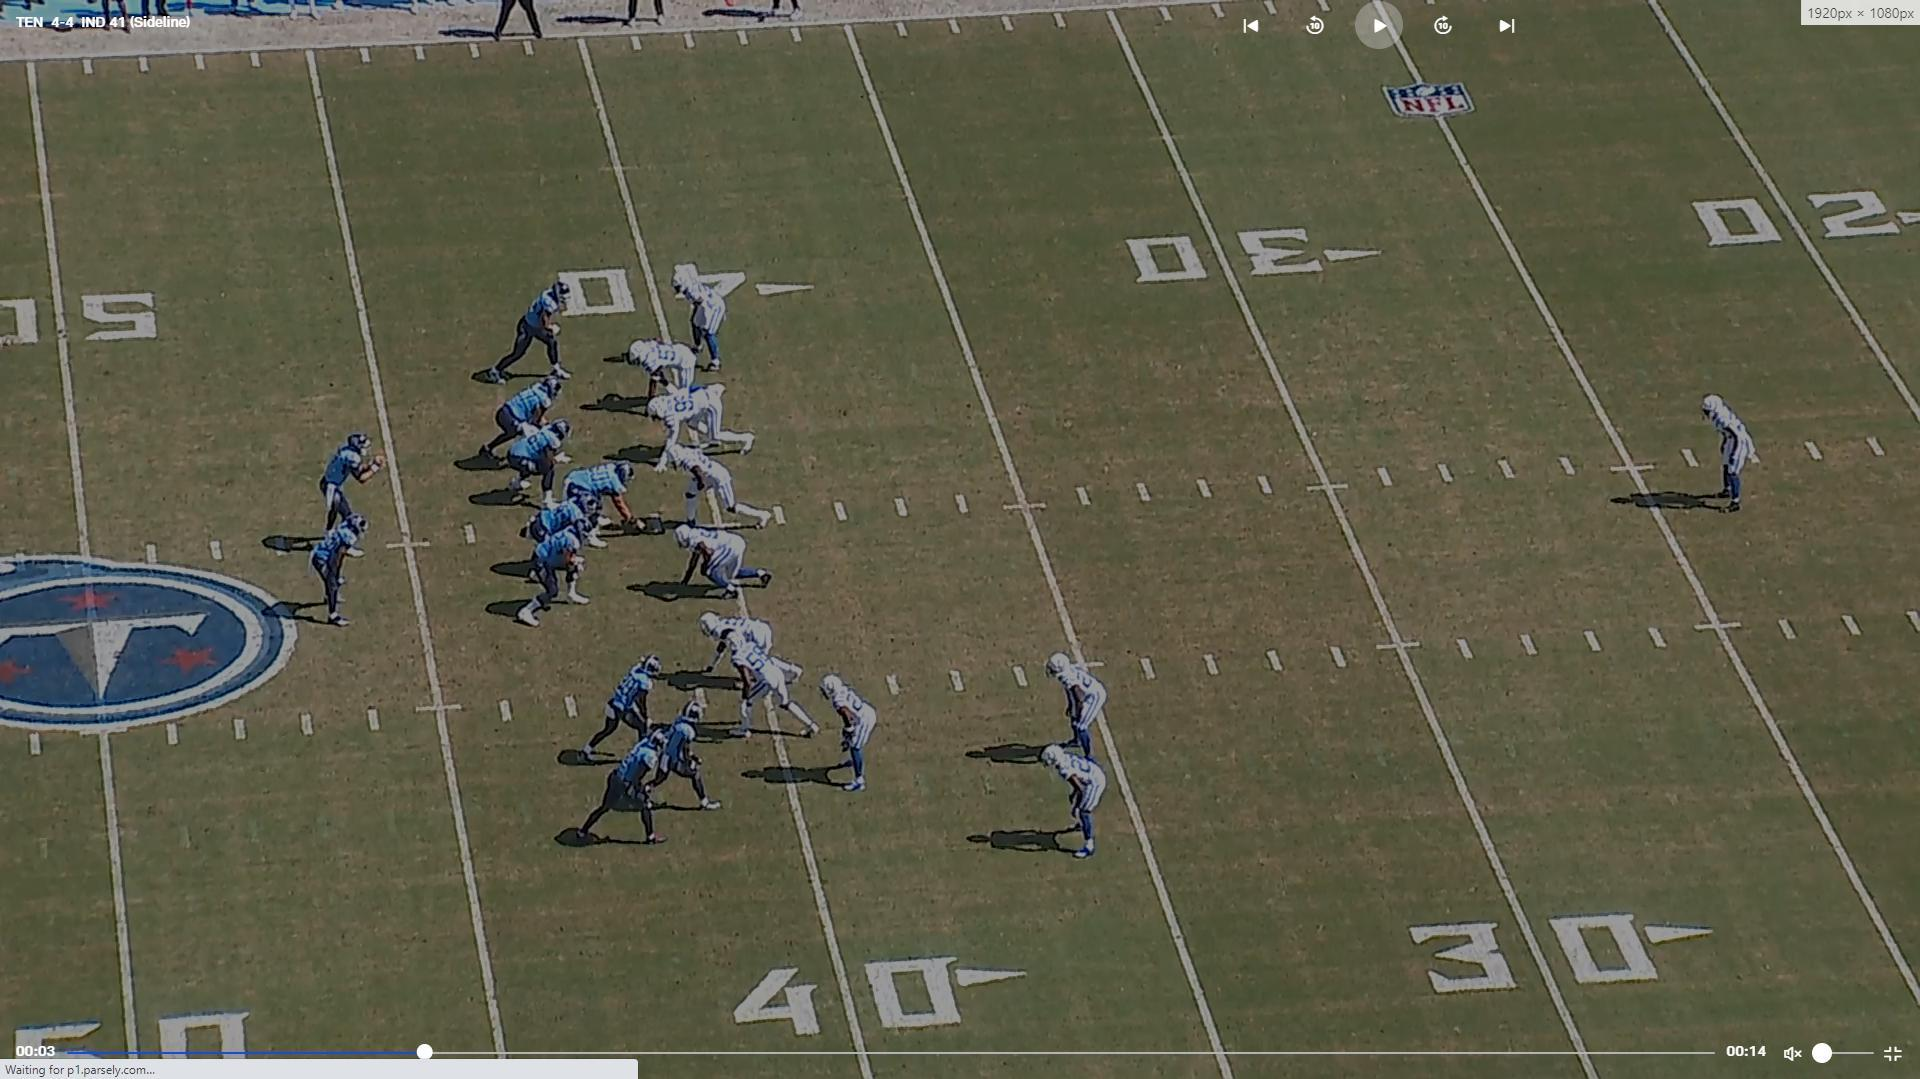defense: (668, 439, 777, 528), (726, 643, 819, 743), (813, 668, 882, 797), (1039, 738, 1110, 862), (674, 523, 779, 606), (641, 387, 754, 460), (1041, 652, 1108, 774), (1698, 390, 1756, 512), (667, 261, 726, 372), (691, 606, 775, 682), (629, 336, 711, 402)
oline: (518, 511, 598, 630), (477, 373, 568, 464), (564, 459, 648, 547), (525, 489, 595, 581), (505, 418, 574, 506)
qb: (317, 428, 379, 545)
ref: (489, 0, 554, 44)
skill: (562, 727, 671, 853), (479, 272, 579, 386), (581, 654, 670, 774), (640, 693, 718, 815), (316, 513, 376, 634)
